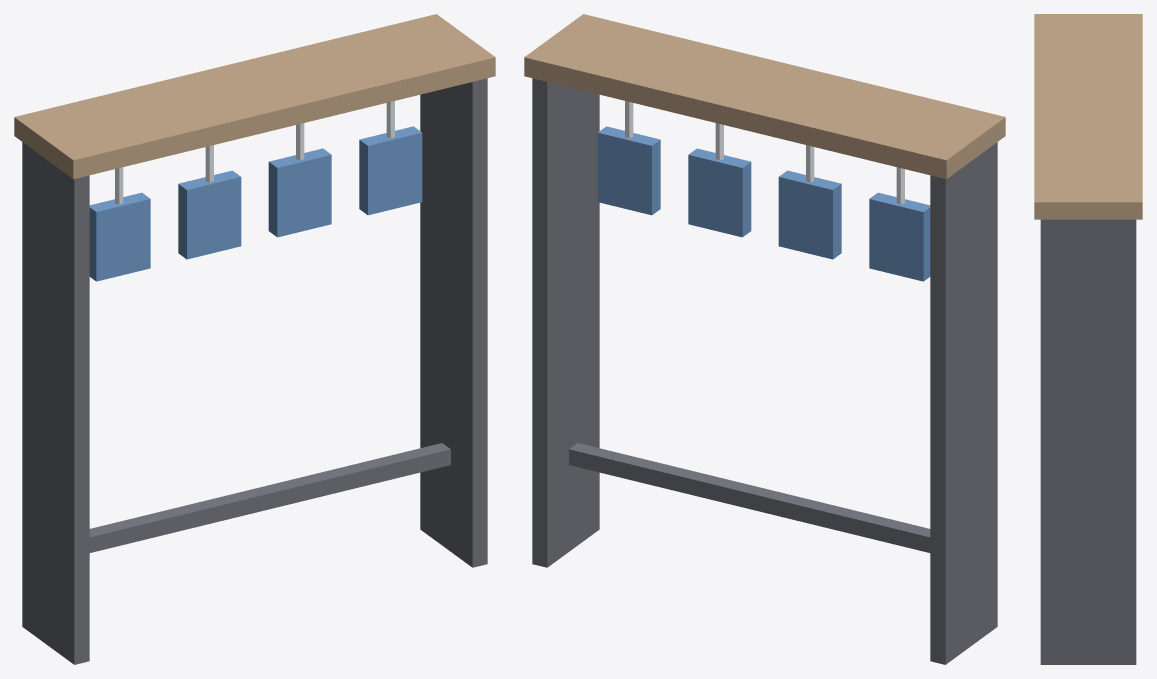
File: martial-arts-dojo-and-fight-stages-gear-shelf-d7b5a755__18059.glb
The picture shows the model from 3 angles, left to right: view 1: azimuth 30°, elevation 25°; view 2: azimuth 150°, elevation 25°; view 3: azimuth 270°, elevation 25°; orthographic projection. The views are drawn at different scales.
Parts seen in each view (by area): view 1: gear-shelf; view 2: gear-shelf; view 3: gear-shelf.
Boxes of the visible parts, left/top/right/bottom form: gear-shelf: left=14, top=14, right=495, bottom=664; gear-shelf: left=524, top=14, right=1005, bottom=664; gear-shelf: left=1034, top=14, right=1142, bottom=664.
Bounding box in the file's own units: 1.4 × 1.61 × 0.3399.
